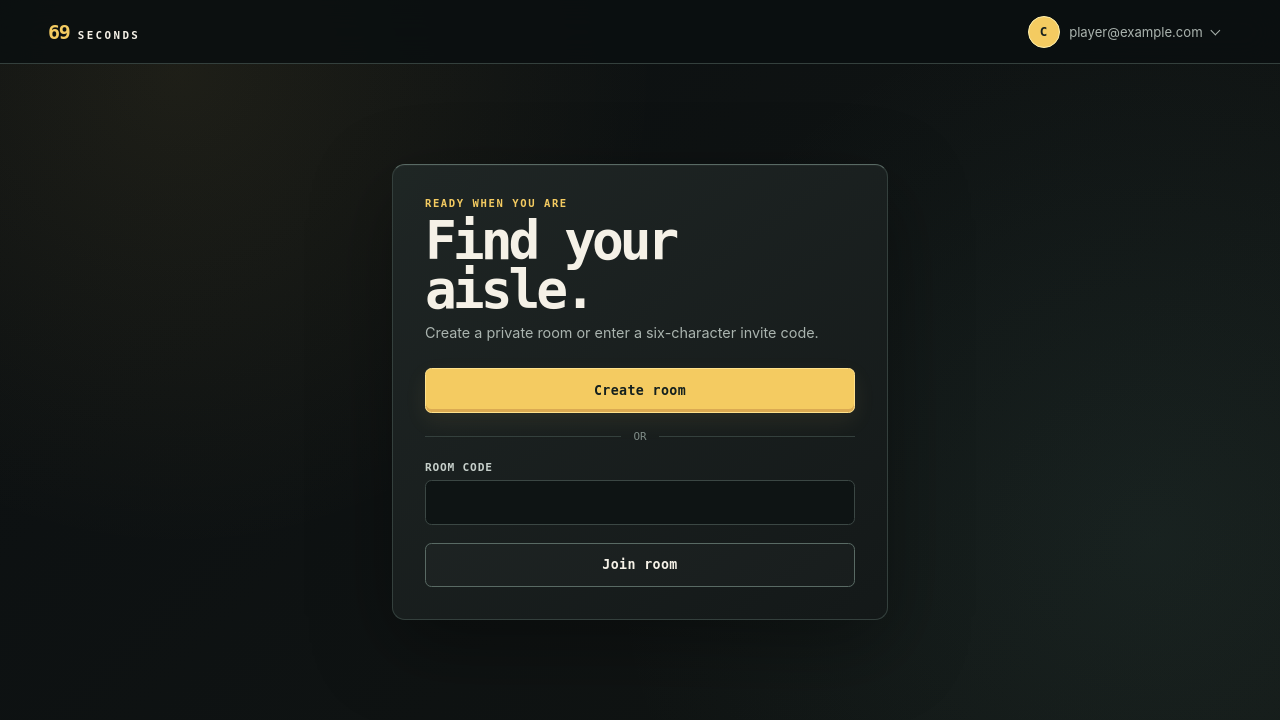
authentication application › closes the account menu when the page is clicked elsewhere
This screenshot has width=1280, height=720.
Check: the button "Create room" is shown, box [425, 368, 855, 413]
What coordinates should you click on to do the following:
click the button with aria-label "Account menu"
I would click on:
 (1126, 32)
Its box is [1021, 9, 1232, 54].
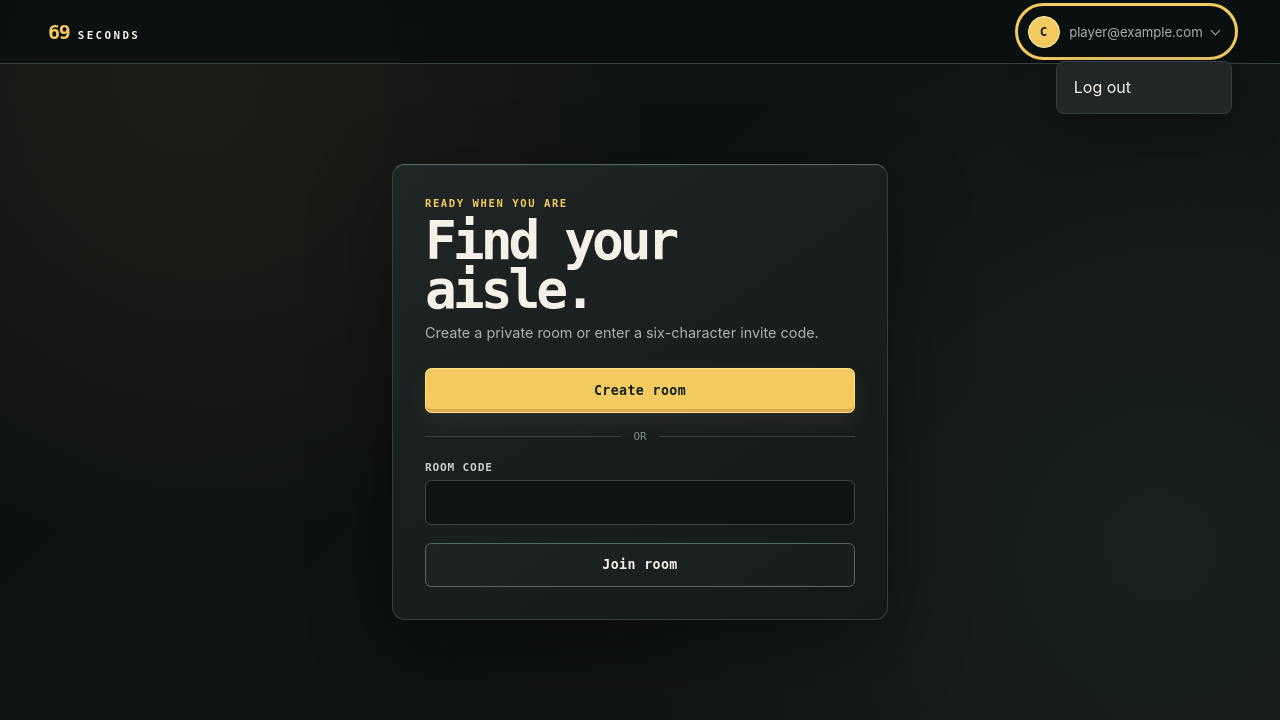
Check: the menu item "Log out" is shown, box [1063, 68, 1225, 107]
What coordinates should you click on to do the following:
click the button "Create room"
I would click on:
 (640, 390)
Its box is [425, 368, 855, 413].
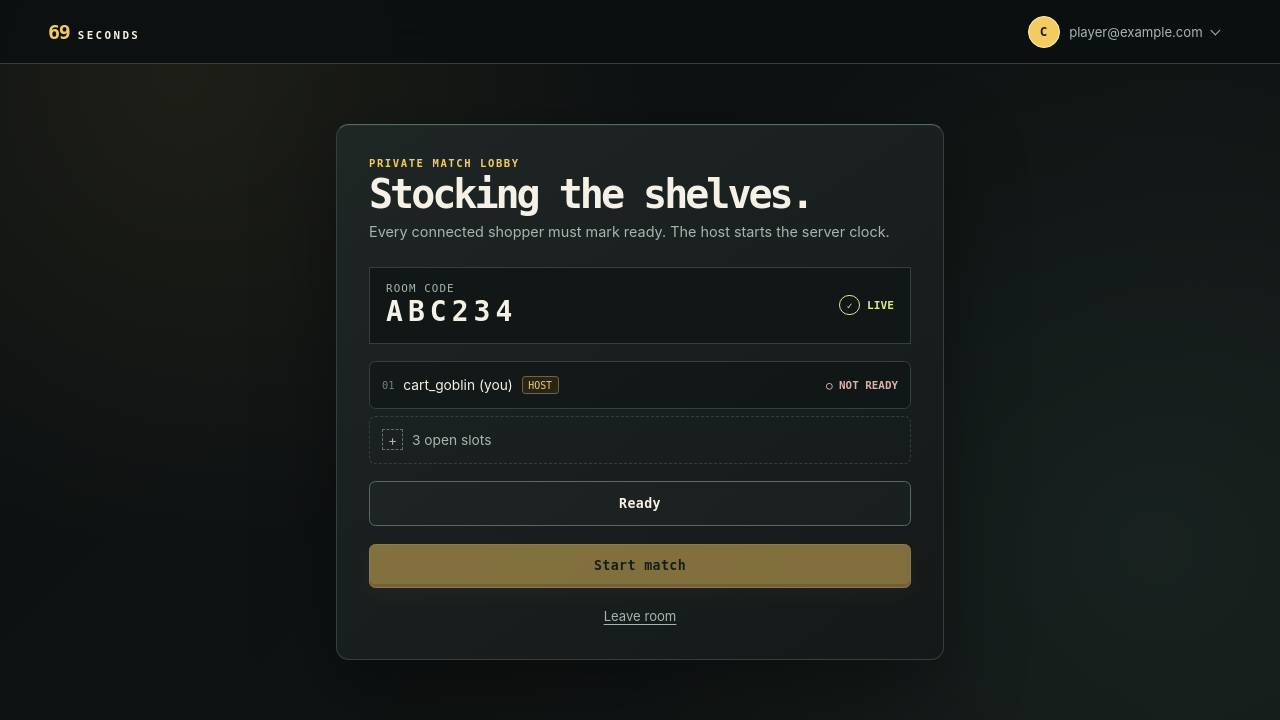
Check: the menu item is gone
